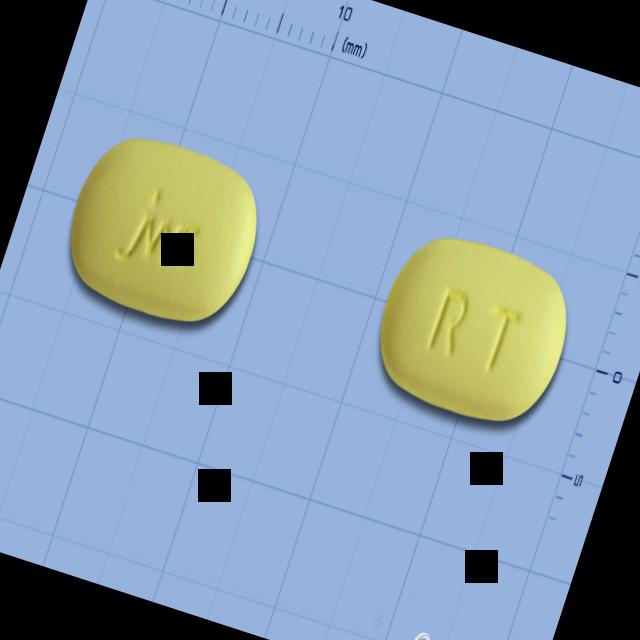Liamclo: (51, 122, 276, 340), (360, 222, 587, 438)
